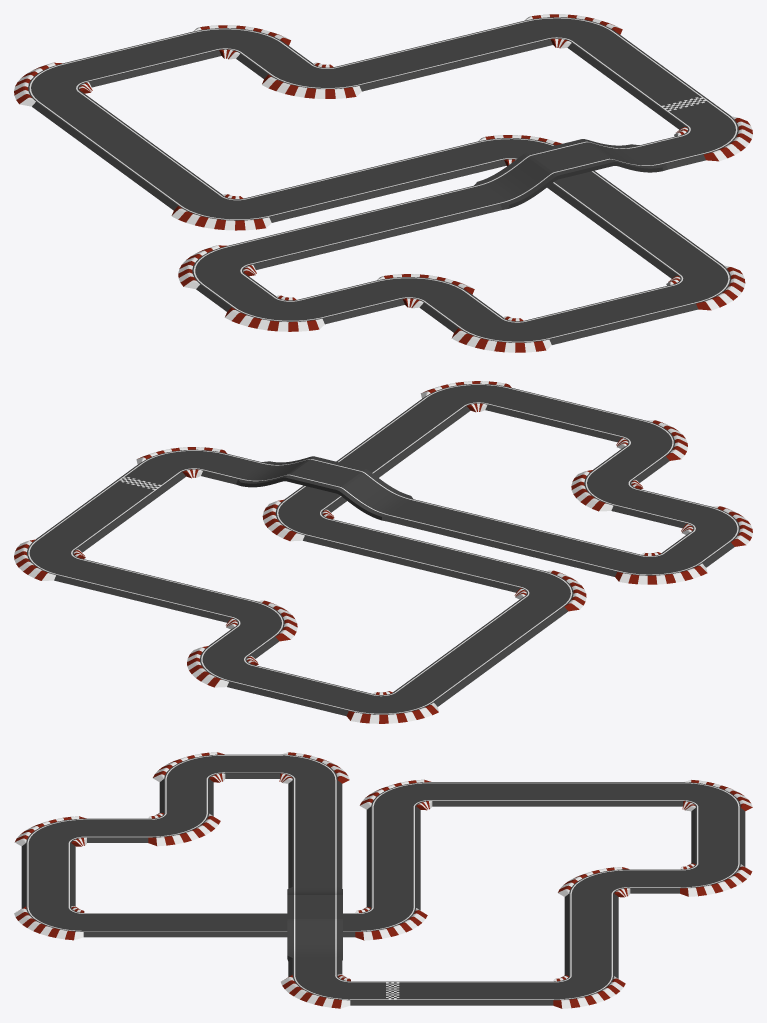
Rendered from Track-04.fbx.
The picture shows the model from 3 angles, top to bottom: view 1: azimuth 30°, elevation 25°; view 2: azimuth 150°, elevation 25°; view 3: azimuth 270°, elevation 25°; orthographic projection. The views are drawn at different scales.
Parts seen in each view (by area): view 1: Track-04; view 2: Track-04; view 3: Track-04.
Part boxes in pixels (x1,y1,x2,y2): Track-04: (14, 14, 752, 352); Track-04: (14, 381, 752, 723); Track-04: (14, 752, 752, 1008).
Bounding box in the file's own units: 203 × 6.98 × 248.
